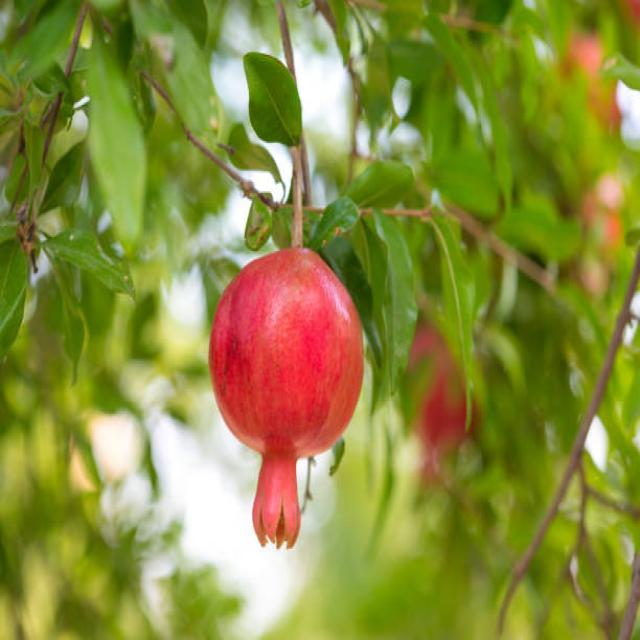Ripe: (202, 239, 368, 542)
